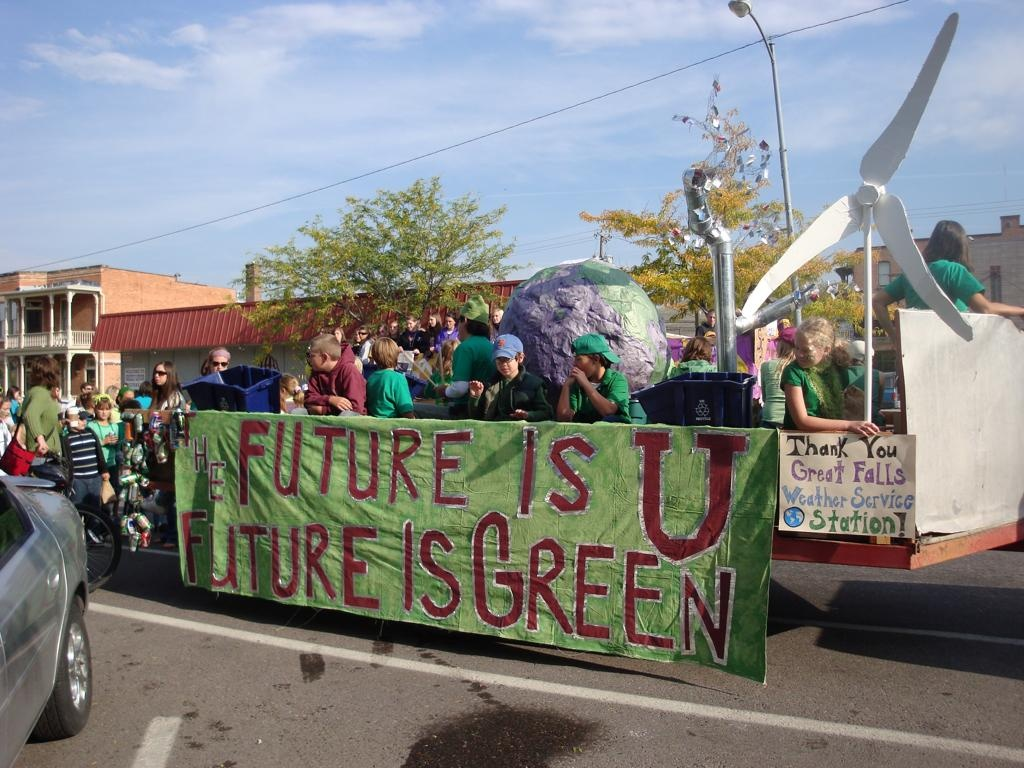human_face: (797, 334, 821, 368), (495, 350, 517, 374), (574, 353, 594, 377), (308, 346, 324, 370), (211, 356, 227, 376), (73, 411, 87, 429), (155, 364, 167, 384), (97, 403, 109, 419), (120, 392, 132, 404), (444, 316, 454, 328), (0, 404, 10, 416), (50, 386, 58, 397), (708, 313, 716, 323), (492, 312, 500, 322), (406, 320, 414, 330), (390, 323, 398, 333), (358, 328, 366, 338), (428, 316, 434, 326), (334, 330, 340, 340), (84, 384, 90, 394), (379, 328, 385, 336), (13, 391, 19, 398)
